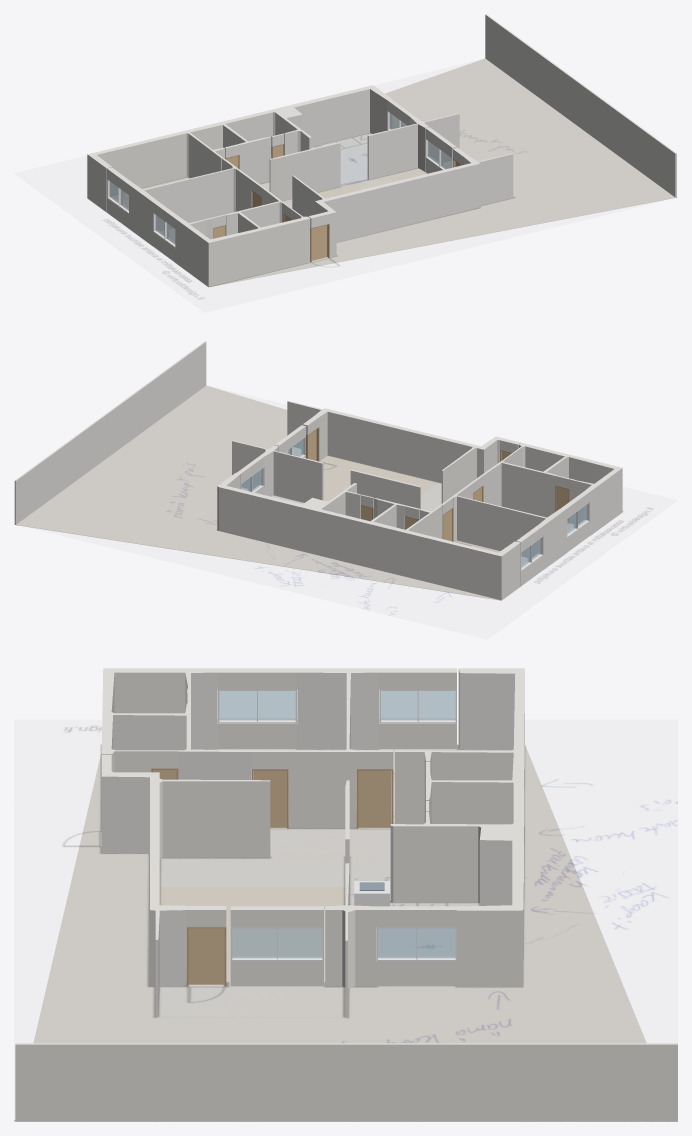
3 renders of one model, top to bottom at view 1: azimuth 30°, elevation 25°; view 2: azimuth 150°, elevation 25°; view 3: azimuth 270°, elevation 25°, orthographic. The views are drawn at different scales.
Parts seen in each view (by area): view 1: plan_floor, floor-slab, wall-r006, wall-r002, wall-r007, wall-r001, wall-r005, wall-r004, wall-r003, room-004, wall-infill:window-001, wall-infill:window-004 (+3 smaller); view 2: plan_floor, floor-slab, wall-r006, wall-r002, wall-r007, wall-r001, wall-r005, wall-r004, room-008, wall-r003, wall-infill:window-001, wall-infill:window-004; view 3: plan_floor, floor-slab, wall-r007, wall-r006, wall-r002, wall-r001, wall-r005, room-005, room-008, wall-r004, wall-infill:window-003, room-009 (+19 smaller).
Boxes of the visible parts, left/top/right/bottom form: plan_floor: left=14, top=58, right=677, bottom=312; floor-slab: left=101, top=58, right=676, bottom=286; wall-r006: left=87, top=85, right=392, bottom=211; wall-r002: left=292, top=153, right=513, bottom=257; wall-r007: left=485, top=14, right=676, bottom=197; wall-r001: left=175, top=188, right=310, bottom=286; wall-r005: left=129, top=165, right=253, bottom=245; wall-r004: left=367, top=113, right=459, bottom=179; wall-r003: left=269, top=142, right=340, bottom=200; room-004: left=313, top=133, right=370, bottom=183; wall-infill:window-001: left=107, top=167, right=133, bottom=228; wall-infill:window-004: left=153, top=201, right=180, bottom=262; plan_floor: left=16, top=385, right=677, bottom=639; floor-slab: left=15, top=385, right=531, bottom=600; wall-r006: left=217, top=472, right=520, bottom=600; wall-r002: left=287, top=401, right=502, bottom=503; wall-r007: left=14, top=341, right=206, bottom=524; wall-r001: left=482, top=443, right=622, bottom=535; wall-r005: left=452, top=483, right=566, bottom=569; wall-r004: left=232, top=440, right=323, bottom=502; room-008: left=319, top=456, right=437, bottom=501; wall-r003: left=350, top=469, right=420, bottom=518; wall-infill:window-001: left=516, top=524, right=543, bottom=585; wall-infill:window-004: left=562, top=491, right=589, bottom=552; plan_floor: left=14, top=720, right=677, bottom=1121; floor-slab: left=16, top=744, right=677, bottom=1121; wall-r007: left=15, top=1043, right=677, bottom=1121; wall-r006: left=390, top=668, right=524, bottom=986; wall-r002: left=101, top=770, right=270, bottom=1016; wall-r001: left=101, top=668, right=251, bottom=779; wall-r005: left=288, top=668, right=379, bottom=828; room-005: left=159, top=828, right=390, bottom=886; room-008: left=159, top=887, right=345, bottom=982; wall-r004: left=325, top=863, right=377, bottom=1016; wall-infill:window-003: left=230, top=906, right=323, bottom=986; room-009: left=158, top=986, right=343, bottom=1017.
Size of the model in its own units: 30.24 by 2.7 by 21.1.
14 materials, 1 textured.
